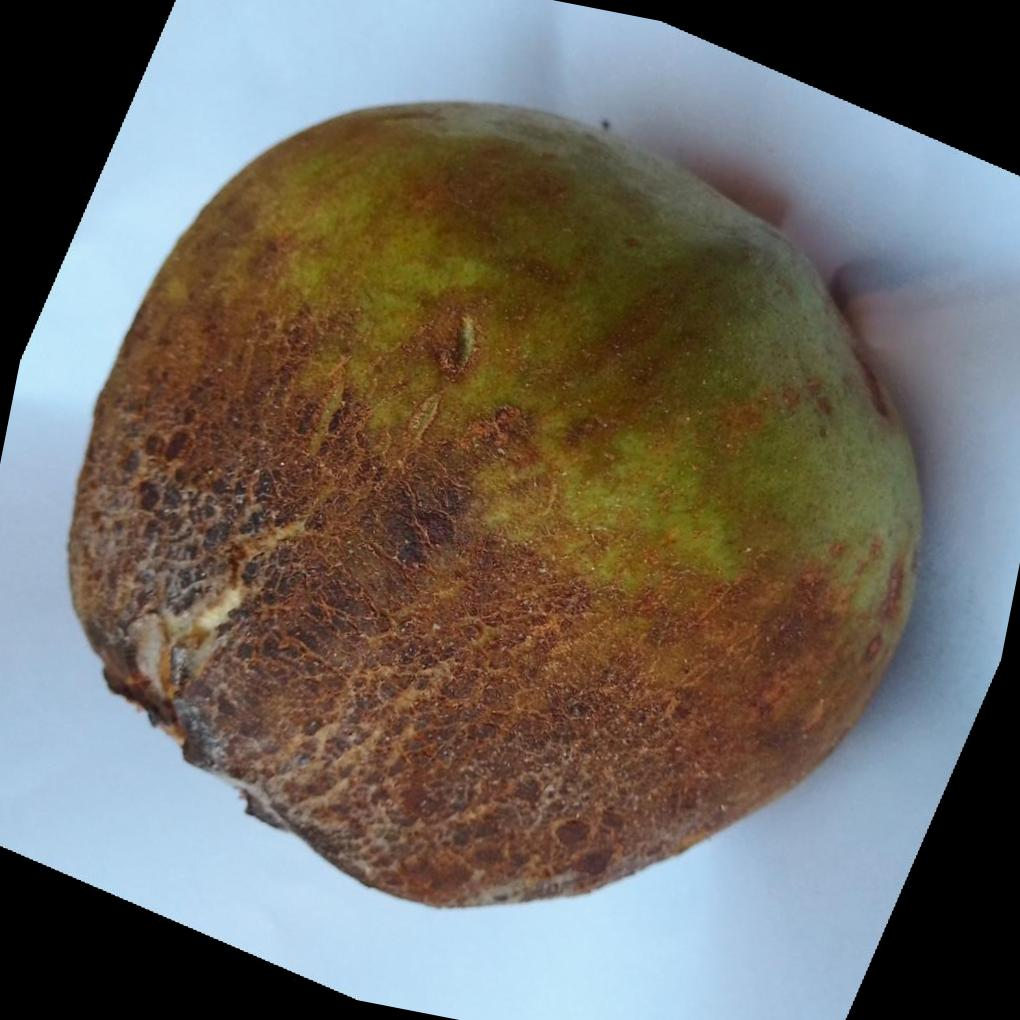FreshOrange: (67, 98, 930, 909)
